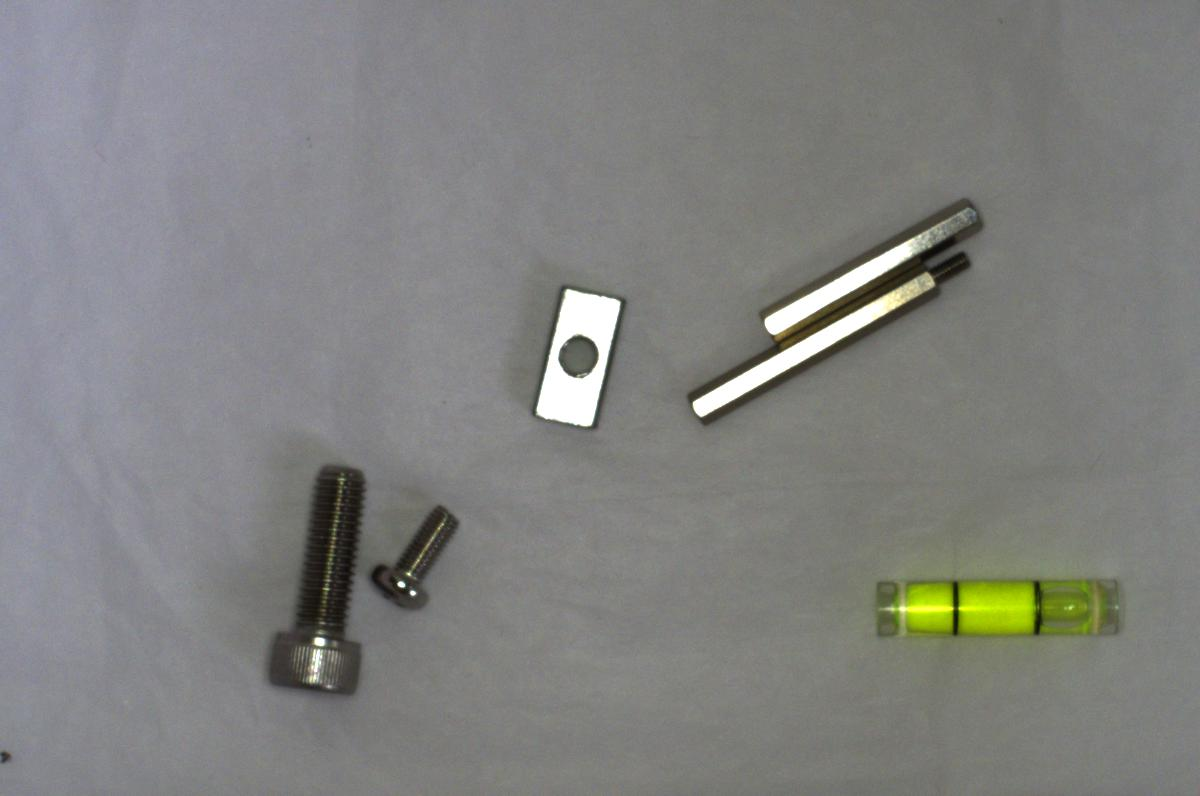Double hexagonal column: (752, 190, 987, 340)
Hexagon screw: (244, 455, 368, 702)
Hexagonal steel column: (684, 248, 978, 423)
Horizontal bubble: (865, 565, 1134, 646)
Rectangular nut: (510, 279, 631, 439)
Round head screw: (371, 499, 461, 618)
